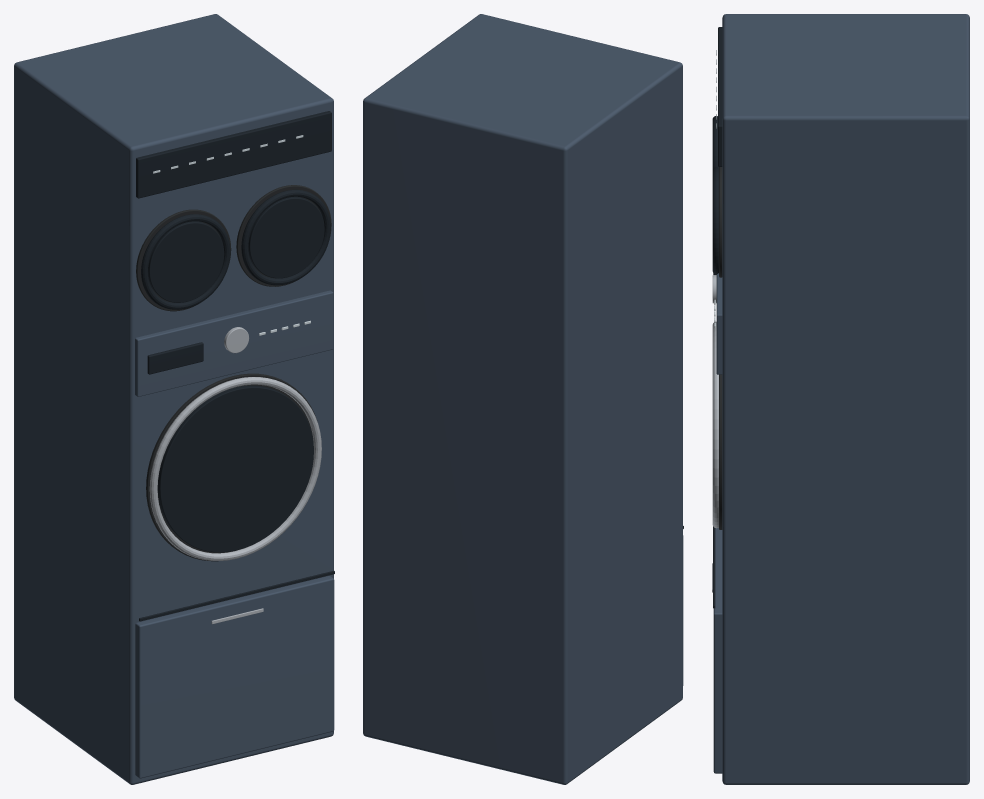
File: P001_littleswan.glb
3 renders of one model, left to right at view 1: azimuth 30°, elevation 25°; view 2: azimuth 150°, elevation 25°; view 3: azimuth 270°, elevation 25°, orthographic. The views are drawn at different scales.
Visible parts, largest first — view 1: P001_BODY, P001_SHOE_DRAWER, P001_DOOR_MAIN_GLASS, P001_MIDDLE_PANEL, P001_TOP_CONTROL, P001_DOOR_SMALL_0_GLASS, P001_DOOR_SMALL_1_GLASS, P001_DOOR_MAIN_RIM, P001_DOOR_SMALL_0_RIM, P001_DOOR_SMALL_1_RIM, P001_MAIN_RECESS, P001_DETERGENT (+3 smaller); view 2: P001_BODY; view 3: P001_BODY, P001_SHOE_DRAWER, P001_DOOR_MAIN_RIM, P001_DOOR_SMALL_1_RIM, P001_TOP_CONTROL, P001_MIDDLE_PANEL, P001_MAIN_RECESS.
Boxes of the visible parts, <box> form: P001_BODY: <box>14,14,333,784</box>; P001_SHOE_DRAWER: <box>135,576,334,778</box>; P001_DOOR_MAIN_GLASS: <box>157,385,313,552</box>; P001_MIDDLE_PANEL: <box>135,290,333,396</box>; P001_TOP_CONTROL: <box>136,111,331,198</box>; P001_DOOR_SMALL_0_GLASS: <box>148,221,224,302</box>; P001_DOOR_SMALL_1_GLASS: <box>248,196,324,278</box>; P001_DOOR_MAIN_RIM: <box>149,377,321,560</box>; P001_DOOR_SMALL_0_RIM: <box>141,214,230,309</box>; P001_DOOR_SMALL_1_RIM: <box>241,189,330,285</box>; P001_MAIN_RECESS: <box>146,373,317,561</box>; P001_DETERGENT: <box>147,342,203,374</box>; P001_BODY: <box>363,14,682,784</box>; P001_BODY: <box>722,14,969,784</box>; P001_SHOE_DRAWER: <box>713,528,722,773</box>; P001_DOOR_MAIN_RIM: <box>712,321,718,528</box>; P001_DOOR_SMALL_1_RIM: <box>712,167,718,274</box>; P001_TOP_CONTROL: <box>718,27,722,166</box>; P001_MIDDLE_PANEL: <box>716,273,722,374</box>; P001_MAIN_RECESS: <box>719,374,722,529</box>.
Size of the model in its own units: 0.595 by 1.77 by 0.62.
